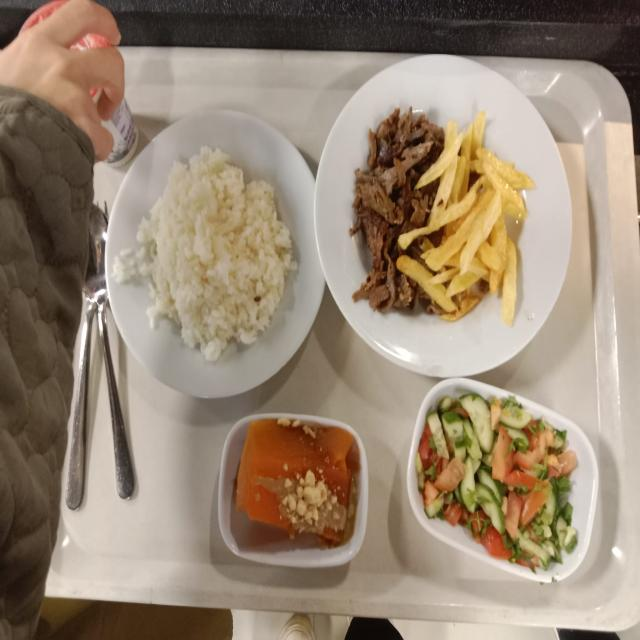ana_yemek: (310, 56, 562, 382), (104, 110, 315, 397)
yan_yemek: (405, 376, 597, 582), (217, 413, 363, 565)
